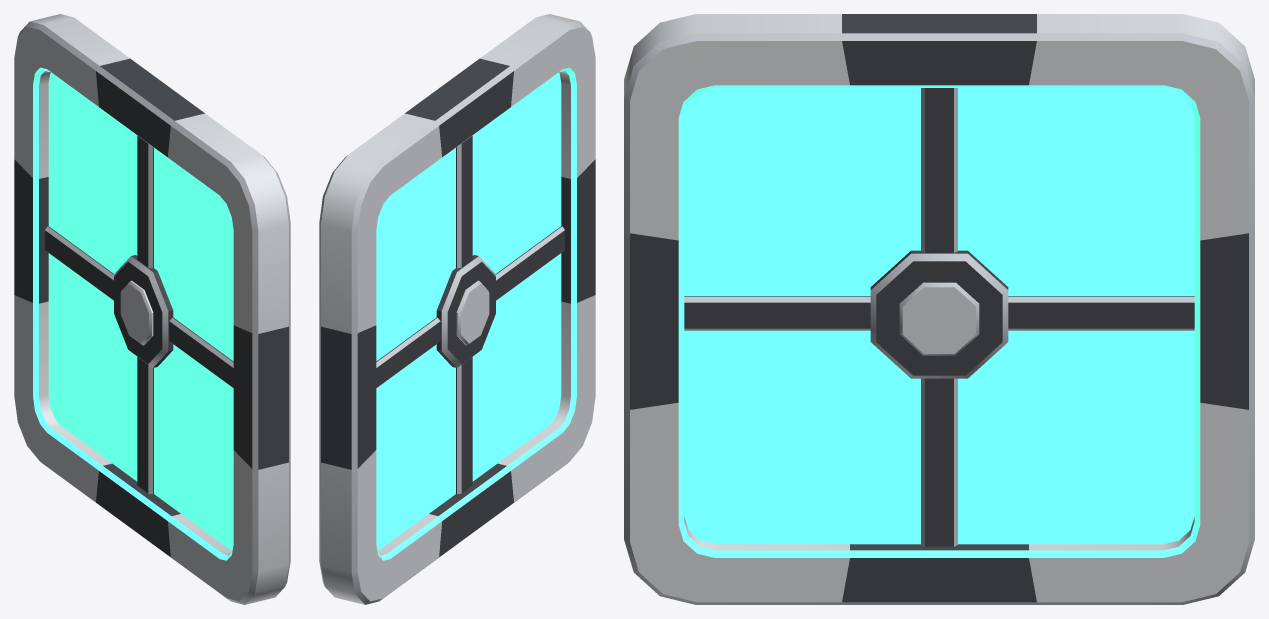
Rendered from SM_MRMiniShield.glb.
3 renders of one model, left to right at view 1: azimuth 30°, elevation 25°; view 2: azimuth 150°, elevation 25°; view 3: azimuth 270°, elevation 25°, orthographic. The views are drawn at different scales.
Visible parts, largest first — view 1: SM_MRMiniShield; view 2: SM_MRMiniShield; view 3: SM_MRMiniShield.
Part boxes in pixels (box(x1,y1,x2,y2)): SM_MRMiniShield: box(14, 14, 290, 604); SM_MRMiniShield: box(319, 14, 595, 604); SM_MRMiniShield: box(624, 14, 1254, 604).
Size of the model in its own units: 0.04 by 0.44 by 0.44.
